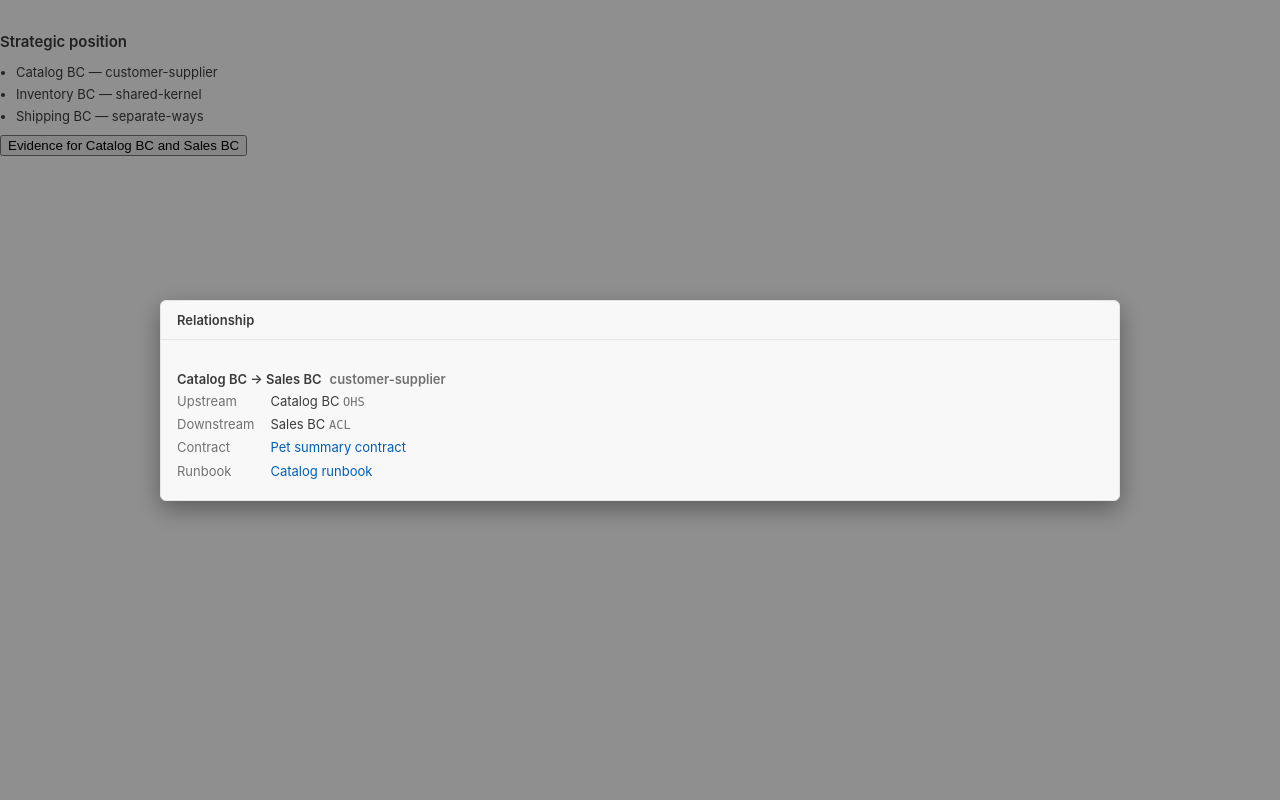
Test: Modal › closes on a click on the scrim
Click the element with class "scrim" at (77, 400), box x1=0 y1=0 x2=1279 y2=799
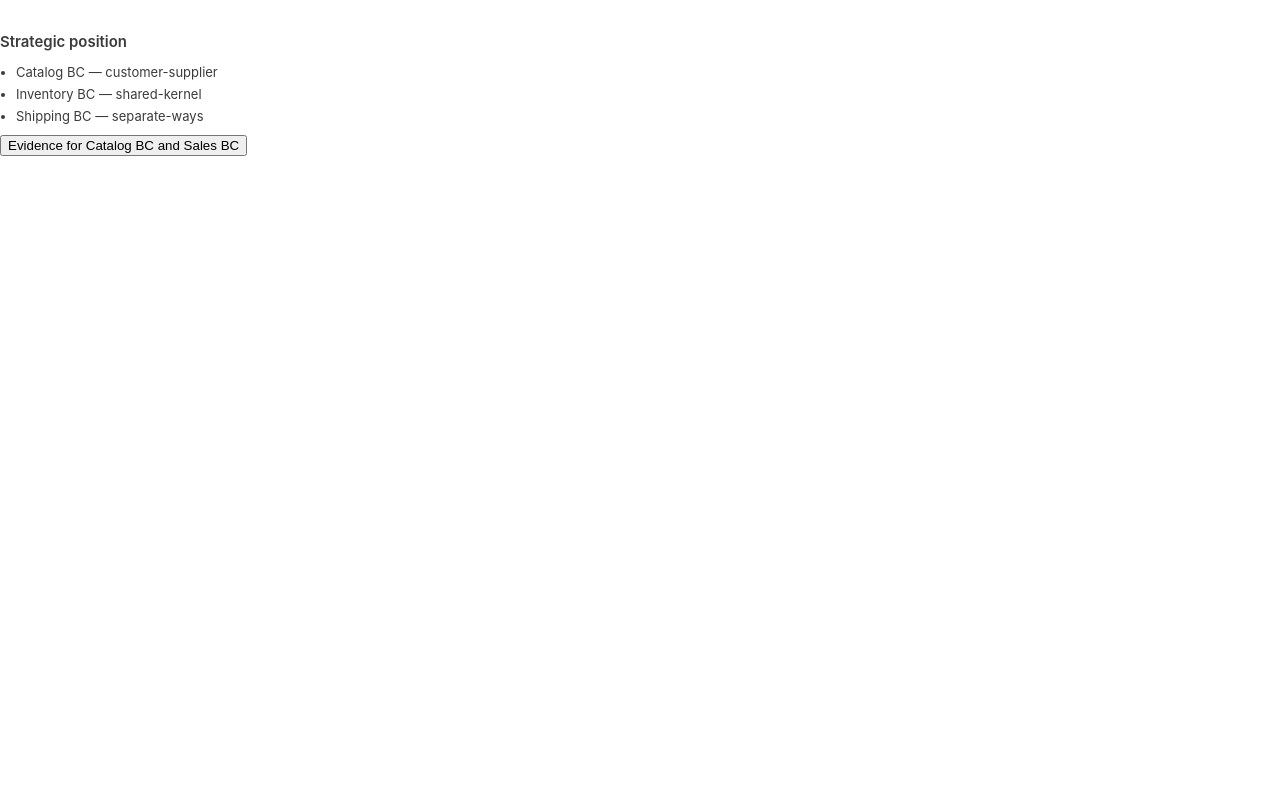
Now the dialog with id "modal-demo" is gone
